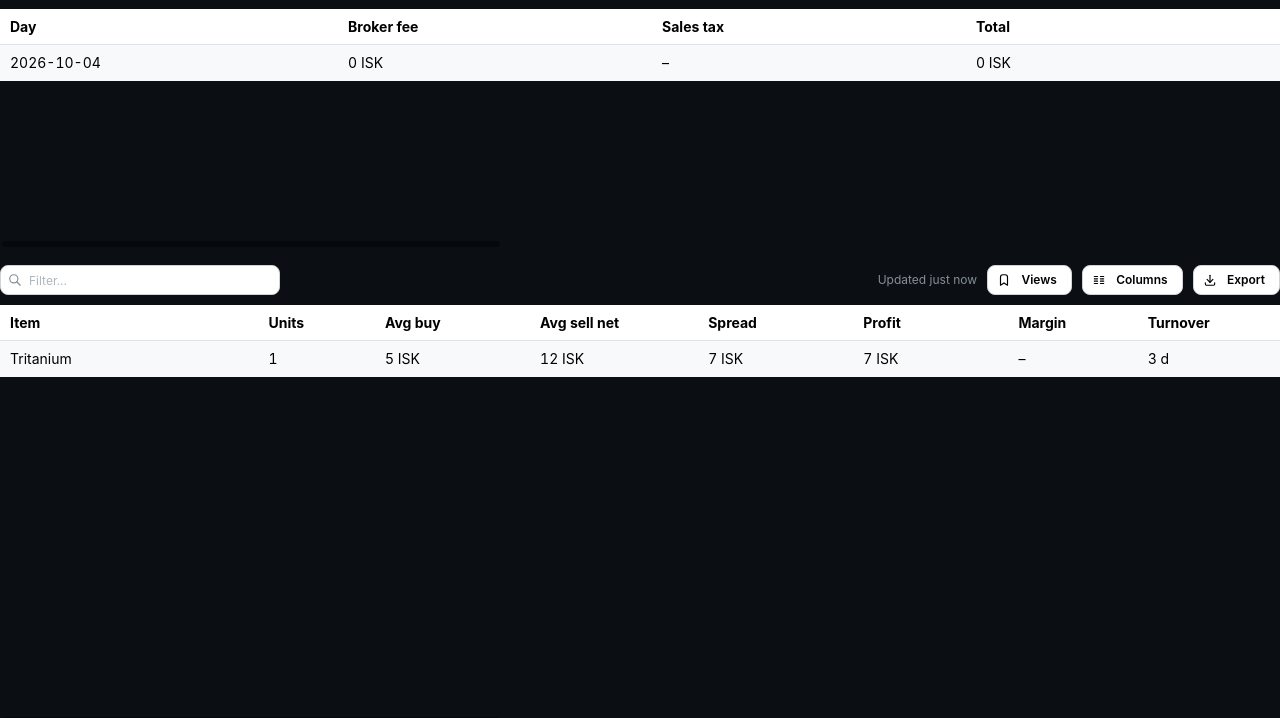
Test: Station Trading realized profit page › drills from an item to its sale and the buy lot
(page scrolled)
Click the text "Tritanium". click: (41, 359)
box: 0,341 -> 259,377
(page scrolled)
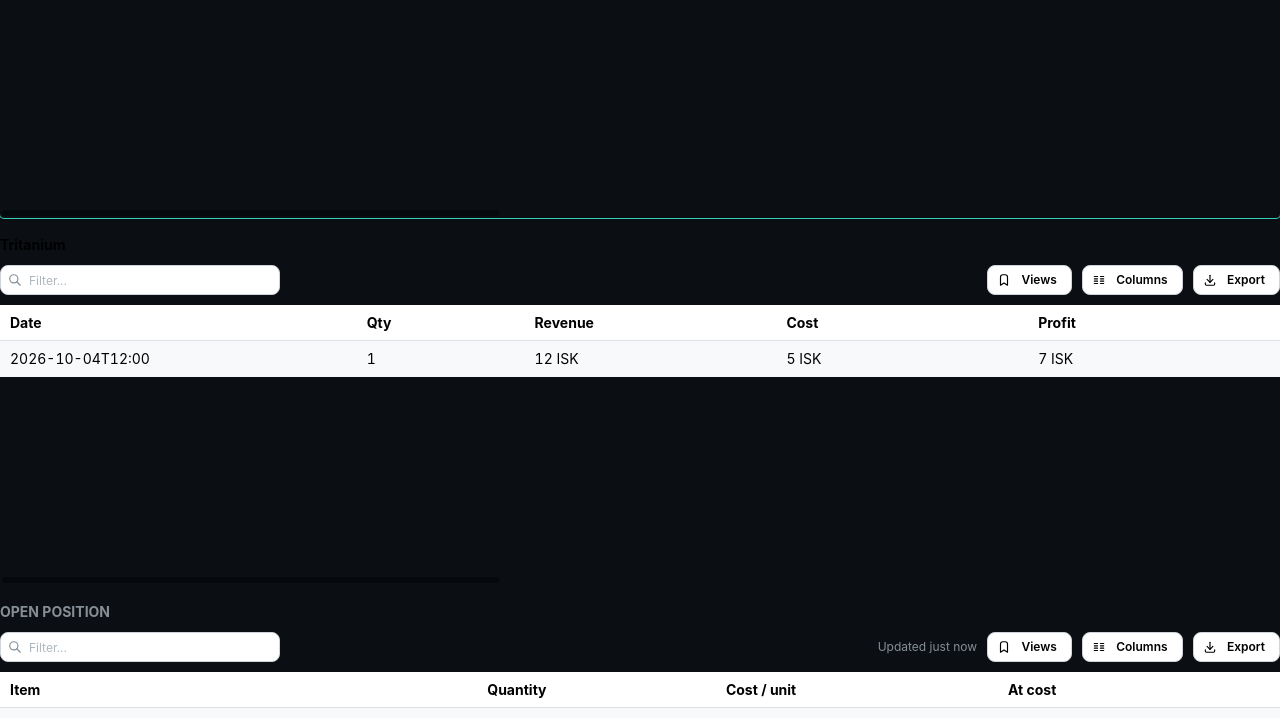
Expected: the text "2026-10-04T12:00" is shown
Click the text "2026-10-04T12:00". click: (80, 359)
box: 0,341 -> 357,377
(page scrolled)
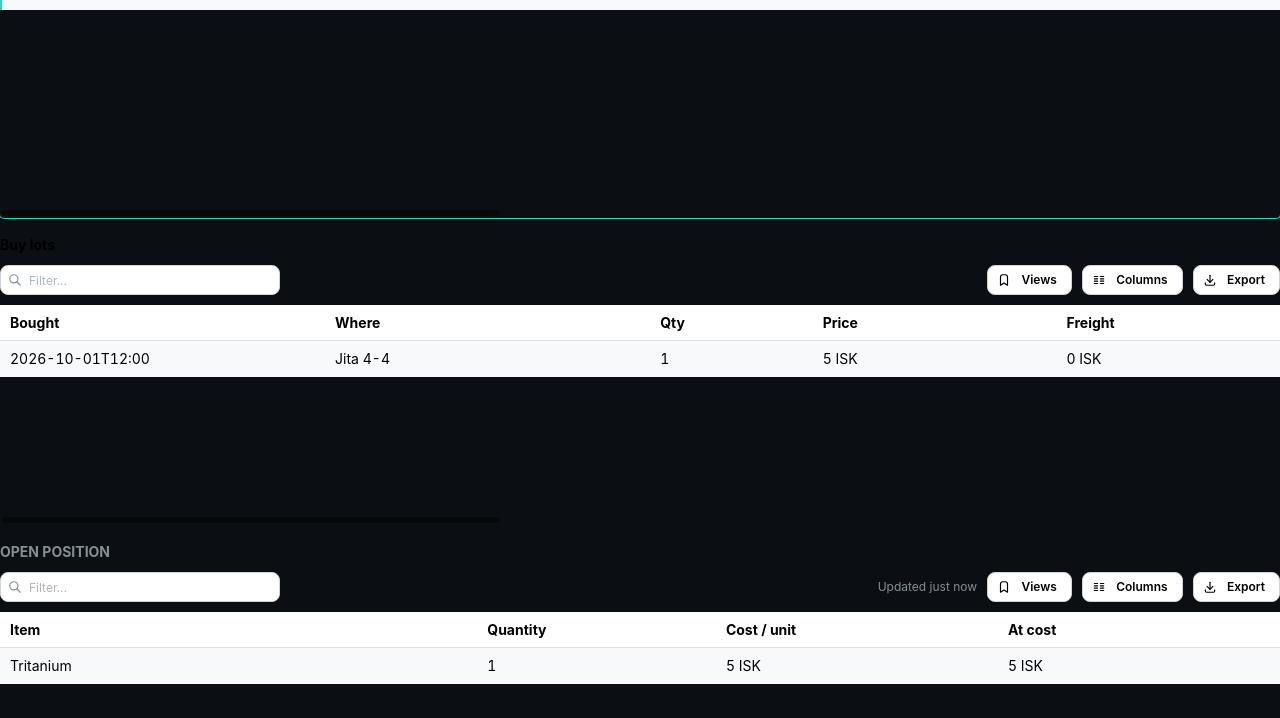
Expected: the text "2026-10-01T12:00" is shown, 0,341 -> 325,377
